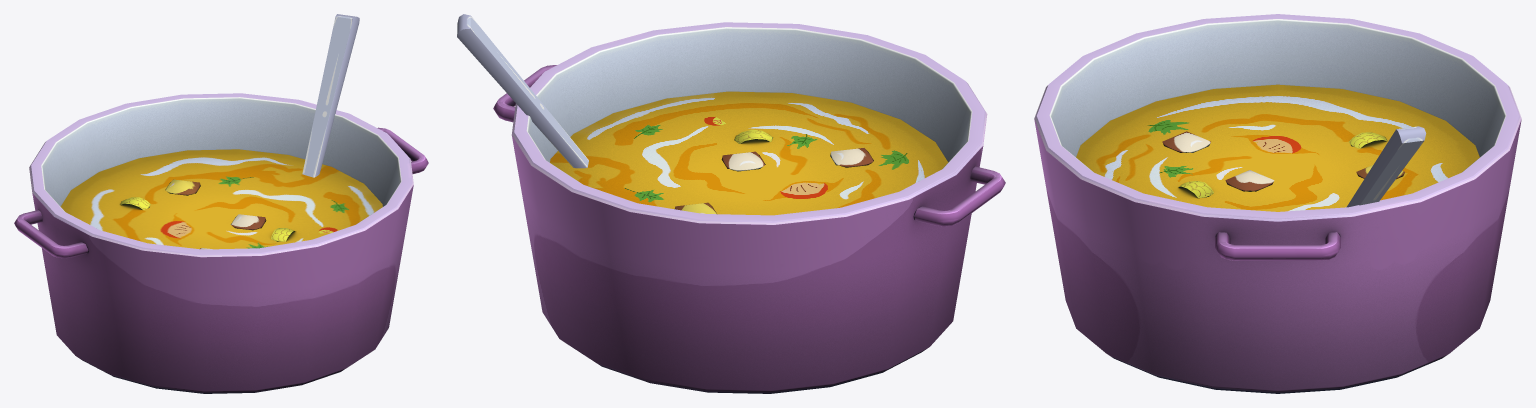
File: Soup.fbx
3 views of the same model, side by side, from view 1: azimuth 30°, elevation 25°; view 2: azimuth 150°, elevation 25°; view 3: azimuth 270°, elevation 25° (orthographic). The views are drawn at different scales.
Visible parts, largest first — view 1: 052; view 2: 052; view 3: 052.
Part boxes in pixels (box(x1,y1,x2,y2)): 052: box(14, 14, 428, 393); 052: box(457, 14, 1005, 393); 052: box(1034, 14, 1521, 393).
Bounding box in the file's own units: 70.1 × 40.85 × 62.29.
1 material, 1 textured.
